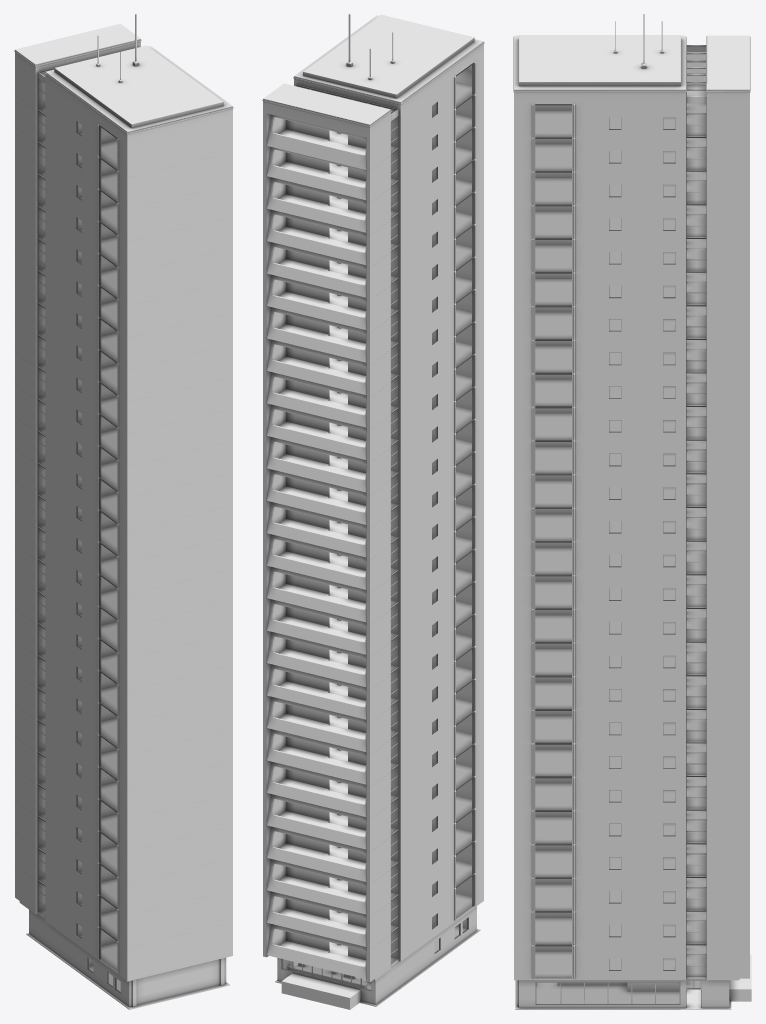
File: residential_010.obj
3 renders of one model, left to right at view 1: azimuth 30°, elevation 25°; view 2: azimuth 150°, elevation 25°; view 3: azimuth 270°, elevation 25°, orthographic. The views are drawn at different scales.
Visible parts, largest first — view 1: Residential_Buildings_010_Cube.005; view 2: Residential_Buildings_010_Cube.005; view 3: Residential_Buildings_010_Cube.005.
Boxes of the visible parts, x1=… form: Residential_Buildings_010_Cube.005: x1=14, y1=14, x2=233, y2=1009; Residential_Buildings_010_Cube.005: x1=262, y1=14, x2=484, y2=1009; Residential_Buildings_010_Cube.005: x1=513, y1=14, x2=751, y2=1009.
Size of the model in its own units: 12.59 by 105 by 23.1.
Materials: 2 (1 with a texture image).
